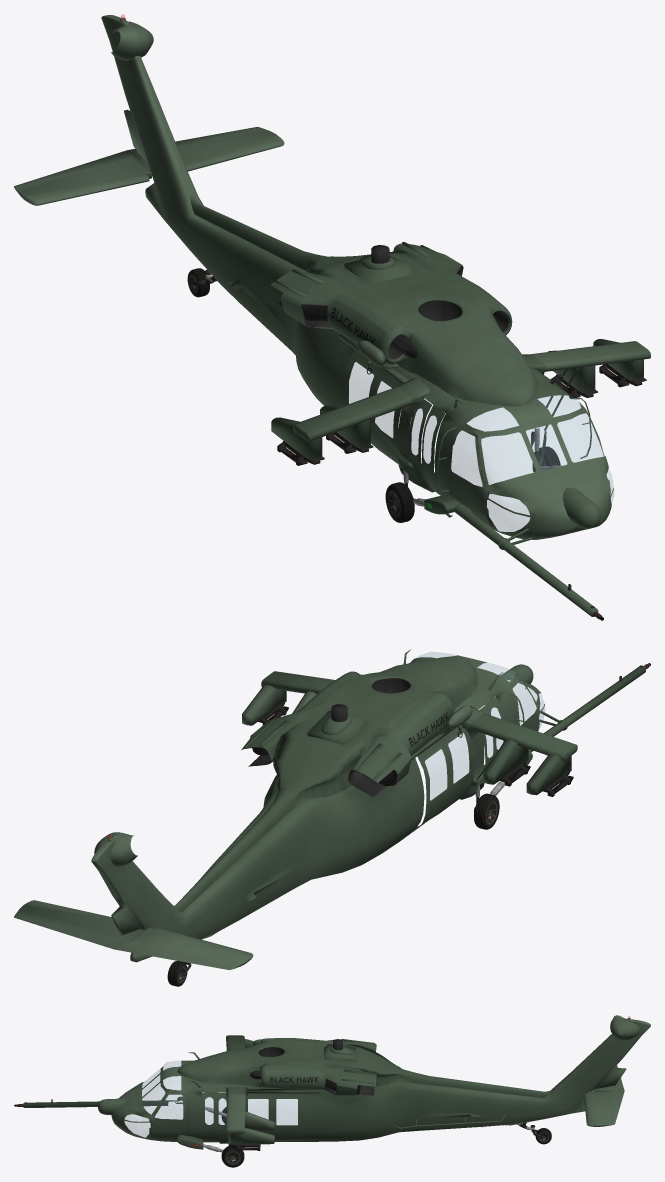
The picture shows the model from 3 angles, top to bottom: view 1: azimuth 30°, elevation 25°; view 2: azimuth 150°, elevation 25°; view 3: azimuth 270°, elevation 25°; orthographic projection. The views are drawn at different scales.
Visible parts, largest first — view 1: geometry_1, geometry_0; view 2: geometry_1, geometry_0; view 3: geometry_1, geometry_0.
Part boxes in pixels (x1,y1,x2,y2): geometry_1: (14, 15, 650, 620); geometry_0: (349, 362, 614, 531); geometry_1: (14, 649, 650, 986); geometry_0: (416, 652, 544, 800); geometry_1: (14, 1015, 650, 1167); geometry_0: (124, 1061, 297, 1137).
Size of the model in its own units: 6.38 by 4.08 by 18.04.
Materials: 3 (3 with a texture image).
